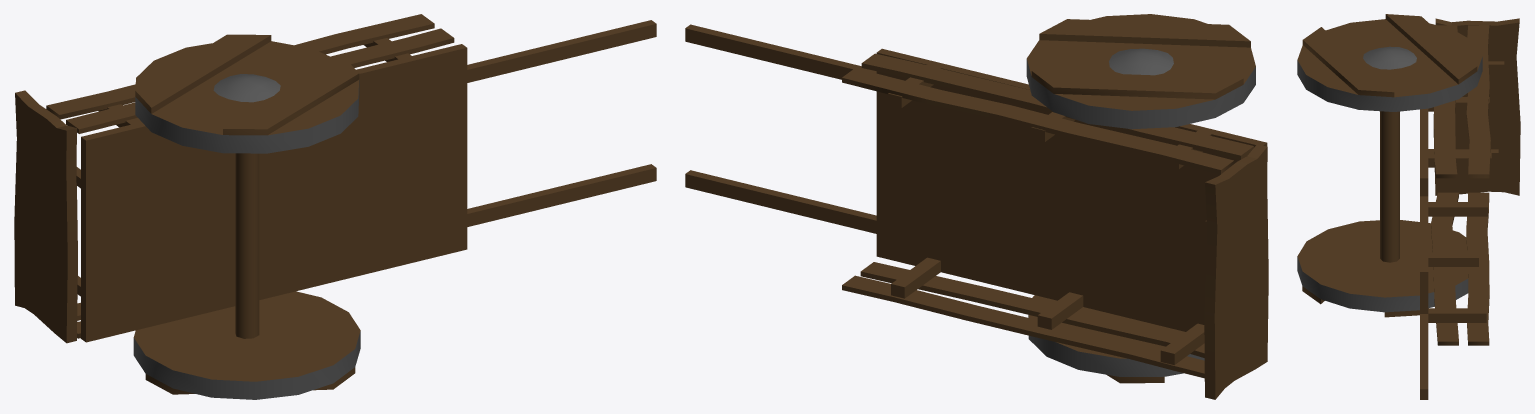
File: MedievalCart.fbx
3 renders of one model, left to right at view 1: azimuth 30°, elevation 25°; view 2: azimuth 150°, elevation 25°; view 3: azimuth 270°, elevation 25°, orthographic. The views are drawn at different scales.
Parts seen in each view (by area): view 1: Cylinder; view 2: Cylinder; view 3: Cylinder.
Boxes of the visible parts, x1,y1,x2,y2 form: Cylinder: [14, 14, 656, 399]; Cylinder: [685, 14, 1268, 399]; Cylinder: [1297, 14, 1520, 399].
Bounding box in the file's own units: 833 × 387 × 340.
